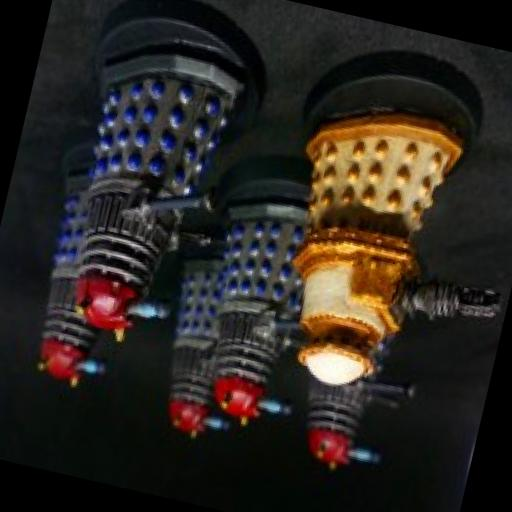dalek: (247, 97, 512, 420), (42, 34, 259, 360), (182, 182, 340, 437), (20, 164, 150, 392), (288, 318, 434, 488), (142, 254, 266, 450)
